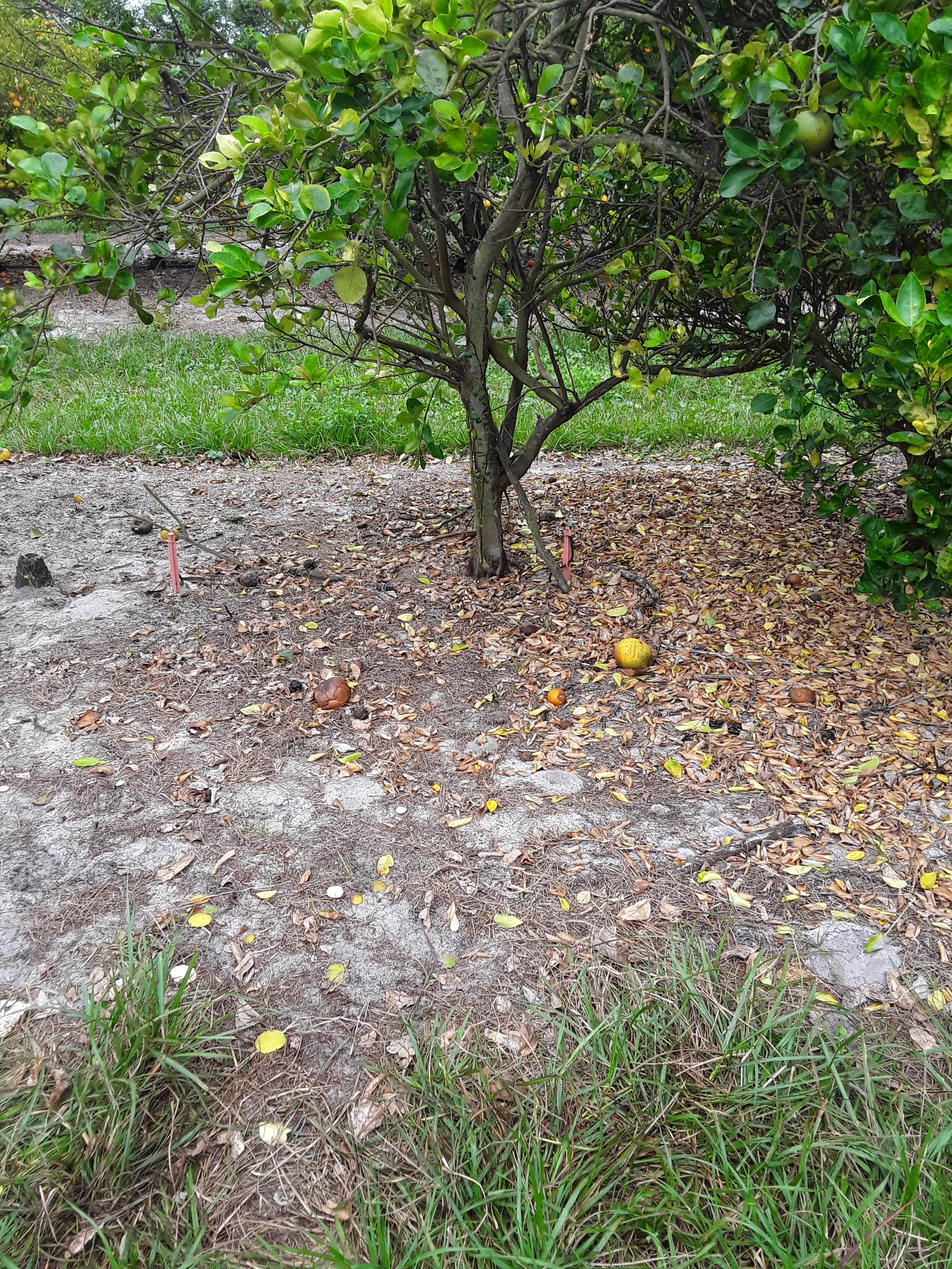fruit_on_ground: (791, 109, 834, 158), (569, 97, 578, 106), (483, 199, 492, 208), (600, 194, 608, 204), (12, 100, 21, 108), (7, 181, 15, 189), (0, 164, 7, 173), (0, 180, 6, 190), (9, 92, 16, 100), (174, 196, 182, 203), (29, 97, 36, 103), (24, 79, 30, 85), (573, 165, 579, 171), (26, 109, 31, 115), (56, 116, 61, 122), (224, 117, 229, 123), (240, 201, 245, 207), (44, 21, 50, 26), (15, 84, 19, 91), (646, 48, 651, 53), (19, 84, 24, 89), (18, 96, 23, 101), (83, 57, 87, 61), (37, 32, 41, 36), (619, 65, 623, 68), (0, 74, 3, 78), (70, 47, 73, 50)
fruit_on_tree: (614, 638, 652, 670), (315, 678, 350, 710), (129, 514, 154, 535), (547, 687, 569, 706), (790, 688, 816, 703), (238, 570, 258, 587), (519, 621, 539, 635), (819, 729, 837, 744), (783, 573, 803, 586), (353, 706, 369, 720), (658, 508, 676, 519), (709, 717, 725, 729), (889, 503, 904, 515), (539, 512, 557, 522), (289, 680, 303, 692), (728, 722, 742, 734), (304, 559, 318, 570), (0, 447, 9, 463), (892, 487, 906, 496), (522, 751, 532, 761), (561, 720, 572, 729), (811, 594, 822, 602), (693, 644, 707, 650), (664, 472, 675, 479), (634, 514, 646, 520), (74, 495, 82, 503), (528, 260, 535, 267), (182, 258, 190, 264), (32, 254, 39, 260), (1, 272, 7, 278), (33, 248, 41, 252), (229, 230, 234, 236), (9, 246, 15, 251), (603, 271, 609, 276), (5, 280, 11, 285), (146, 256, 153, 260), (565, 241, 570, 246), (172, 250, 177, 255), (228, 220, 234, 224), (608, 282, 612, 288), (18, 271, 23, 275)
